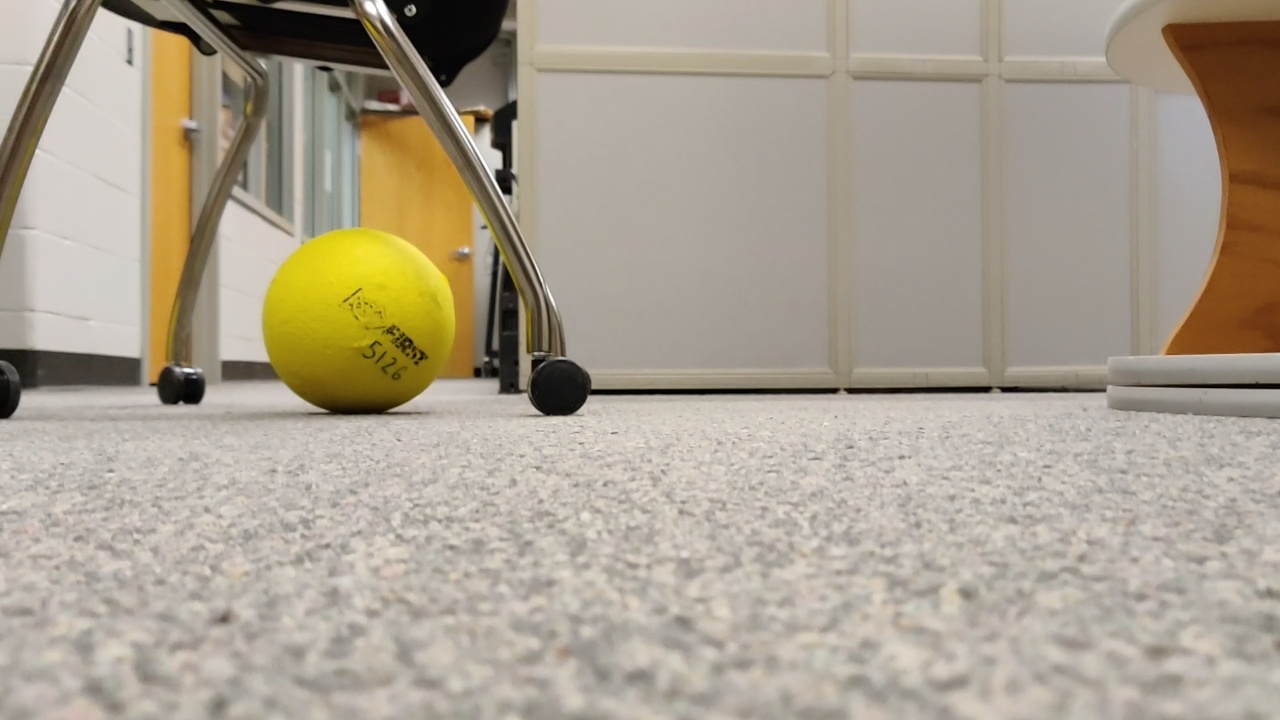Ball: (267, 224, 455, 422)
